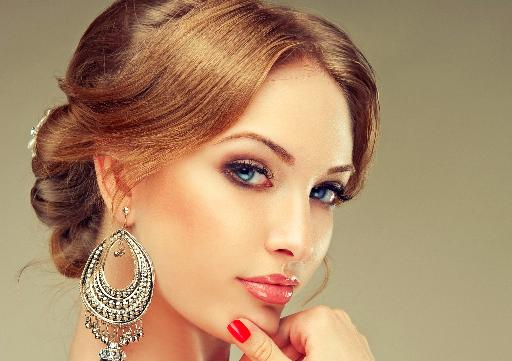left_eye: (310, 181, 346, 210)
right_eye: (224, 164, 273, 187)
right_lip_corner: (230, 273, 252, 286)
